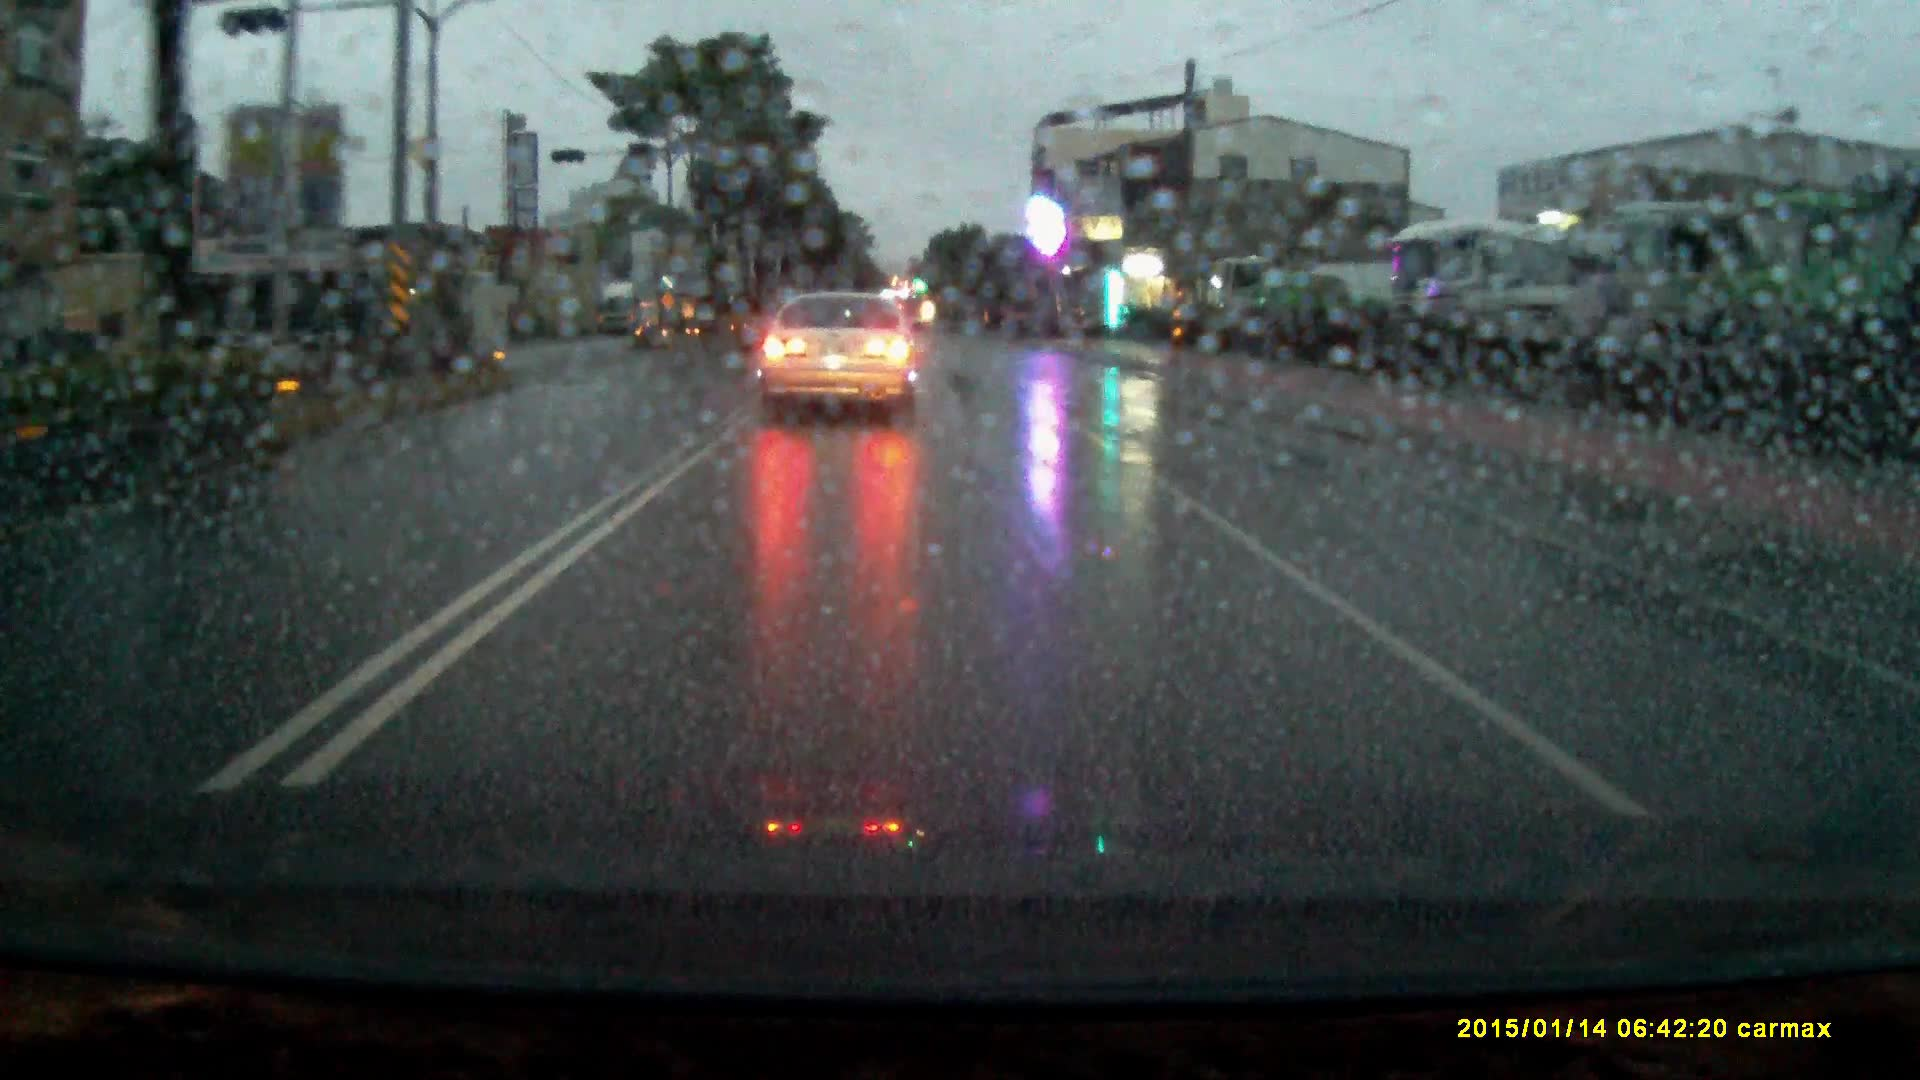vehicle: (1726, 189, 1887, 450), (1615, 196, 1759, 407), (1468, 225, 1615, 382), (757, 291, 923, 425), (1387, 224, 1487, 352), (1250, 262, 1400, 334), (1208, 256, 1276, 326), (597, 280, 661, 338)
